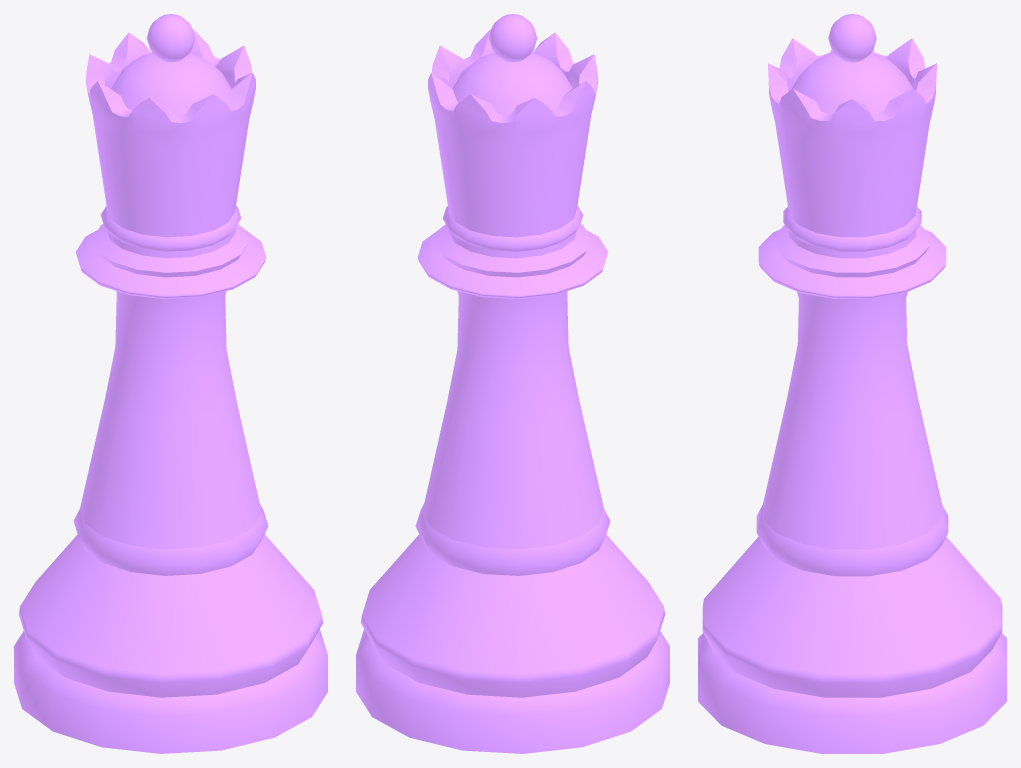
File: item-4-6.glb
3 renders of one model, left to right at view 1: azimuth 30°, elevation 25°; view 2: azimuth 150°, elevation 25°; view 3: azimuth 270°, elevation 25°, orthographic.
Visible parts, largest first — view 1: BlackQueen; view 2: BlackQueen; view 3: BlackQueen.
Part boxes in pixels (box(x1,y1,x2,y2)): BlackQueen: box(14, 14, 327, 753); BlackQueen: box(356, 14, 669, 753); BlackQueen: box(698, 14, 1006, 753).
Bounding box in the file's own units: 0.0968 × 0.2326 × 0.0968.
